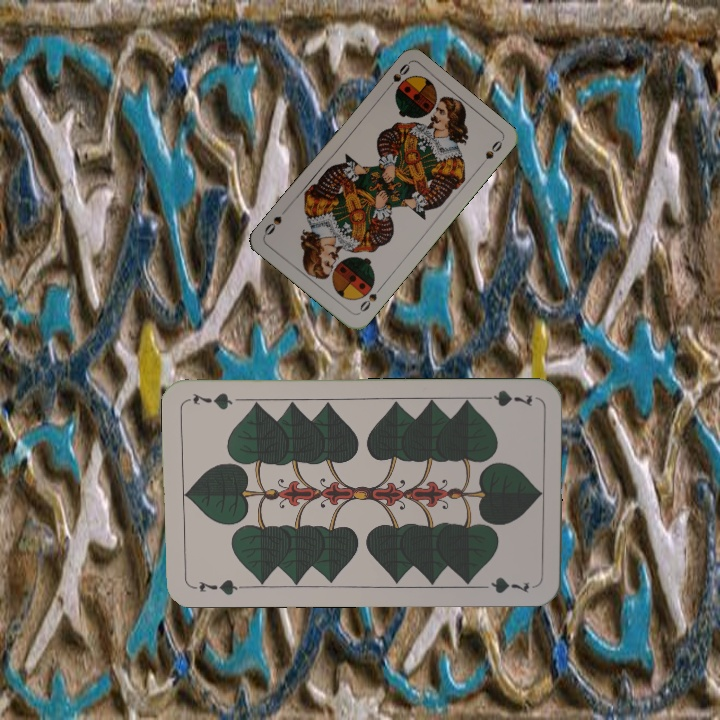G7: (476, 386, 535, 409), (187, 576, 246, 598)
SO: (381, 59, 413, 94), (355, 282, 385, 314)
